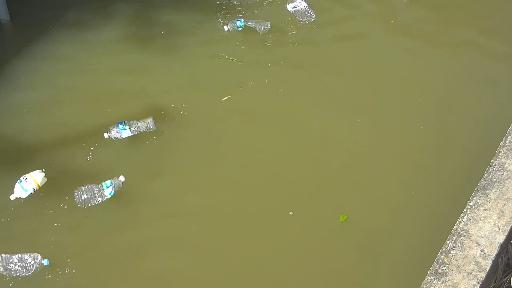leaf: (334, 213, 356, 224)
plastic: (61, 163, 129, 212), (0, 157, 55, 214), (226, 8, 293, 43), (0, 243, 57, 282), (107, 110, 162, 143), (264, 0, 326, 27)
